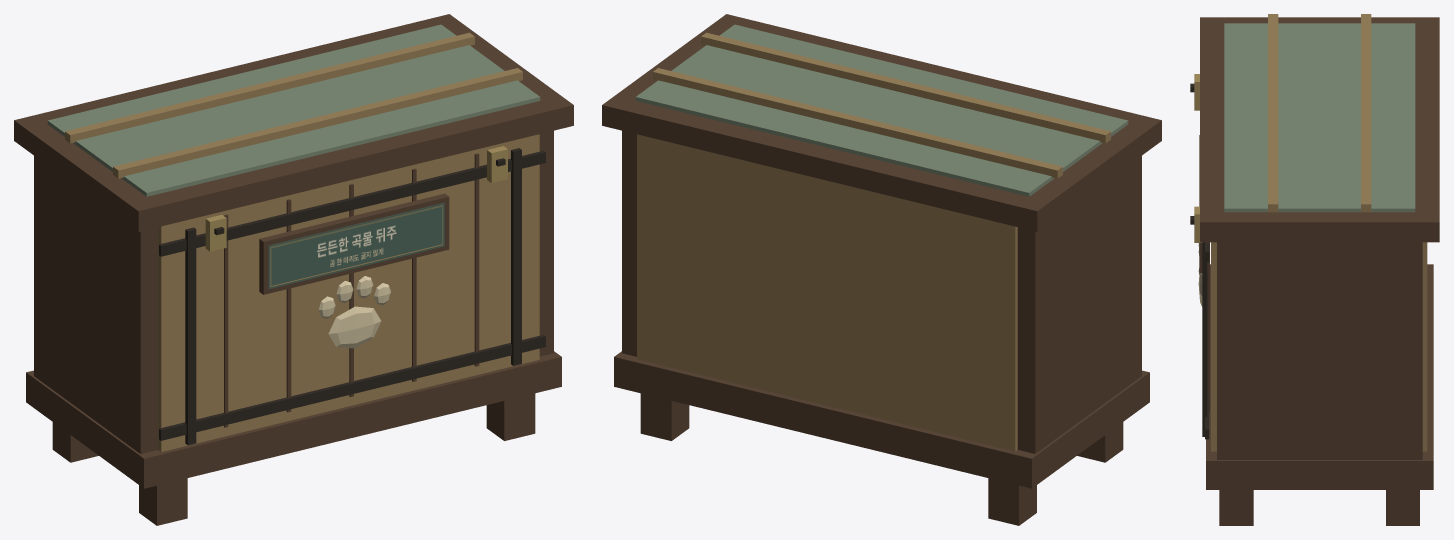
File: L03_Grain_Dwiju.fbx
The picture shows the model from 3 angles, left to right: view 1: azimuth 30°, elevation 25°; view 2: azimuth 150°, elevation 25°; view 3: azimuth 270°, elevation 25°; orthographic projection. The views are drawn at different scales.
Visible parts, largest first — view 1: Structure.002, Lid; view 2: Structure.002, Lid; view 3: Structure.002, Lid.
Part boxes in pixels (x1,y1,x2,y2): Structure.002: (26,130,561,525); Lid: (14,14,573,231); Structure.002: (614,130,1149,525); Lid: (602,14,1161,231); Structure.002: (1190,74,1433,525); Lid: (1200,14,1439,242).
Bounding box in the file's own units: 198 × 148 × 102.
1 material, 1 textured.
